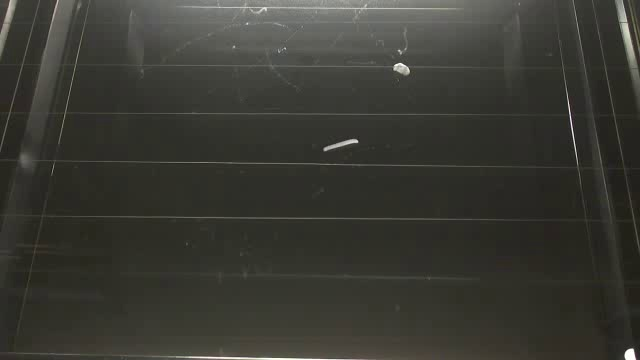Alfa: (320, 135, 363, 154), (389, 59, 418, 78)
